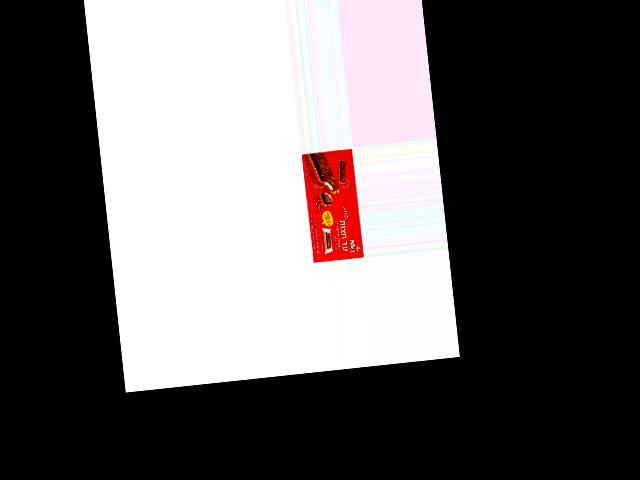chocolate: (301, 148, 364, 264)
